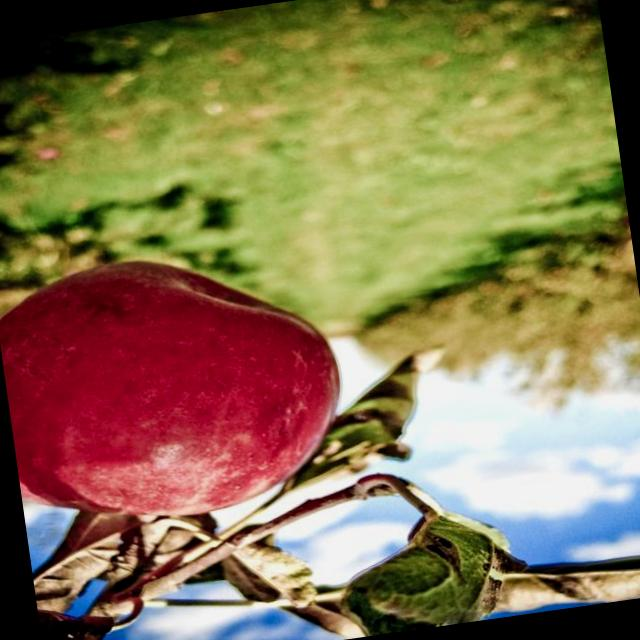Apple: (0, 233, 358, 539)
